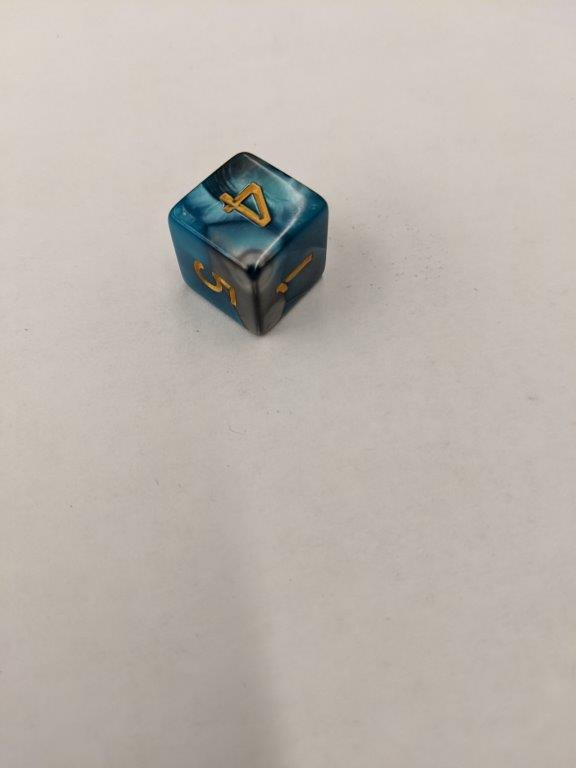d6-4: (170, 154, 332, 334)
